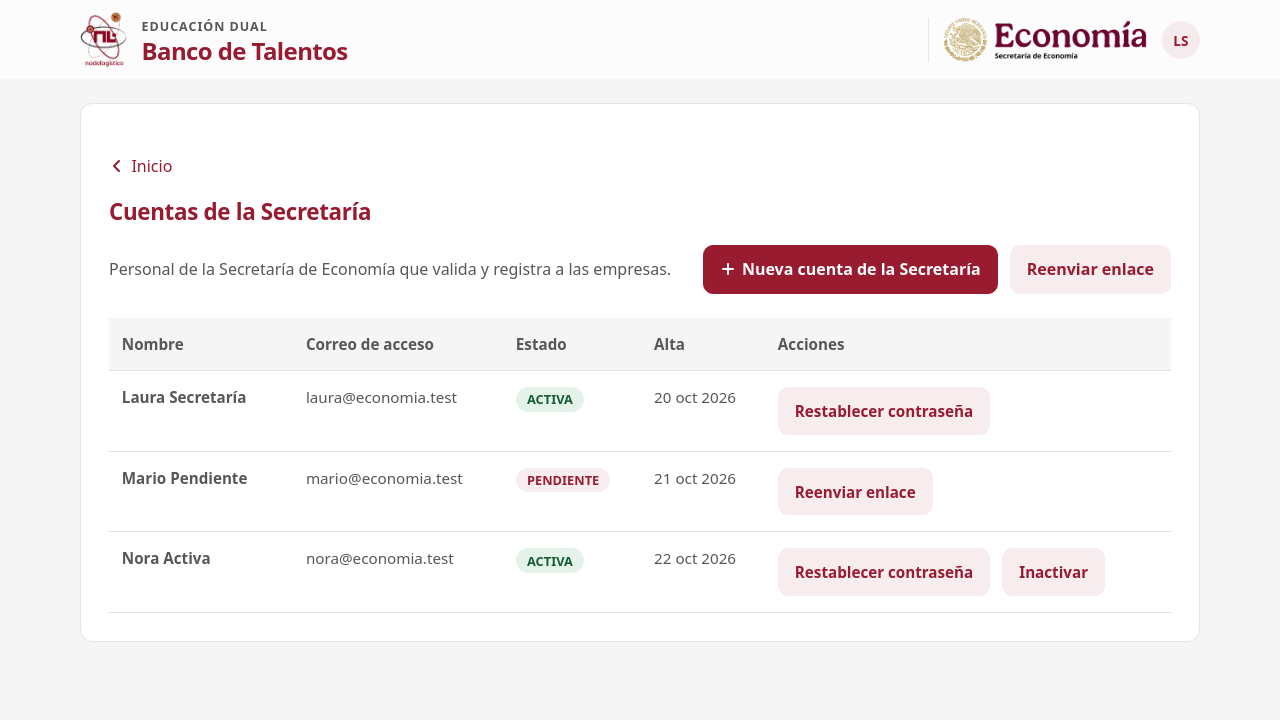
Test: cuentas de la Secretaría HU-S4-01 › estado y restablecimiento HU-S6-04 › inactiva tras confirmar y activa otra cuenta, pero nunca la propia (CA-01, CA-04)
Expected: the button with aria-label "Restablecer la contraseña de Laura Secretaría" is shown, [778, 387, 990, 435]
Click the button with aria-label "Inactivar la cuenta de Nora Activa" at (1054, 572), box [1002, 548, 1105, 596]
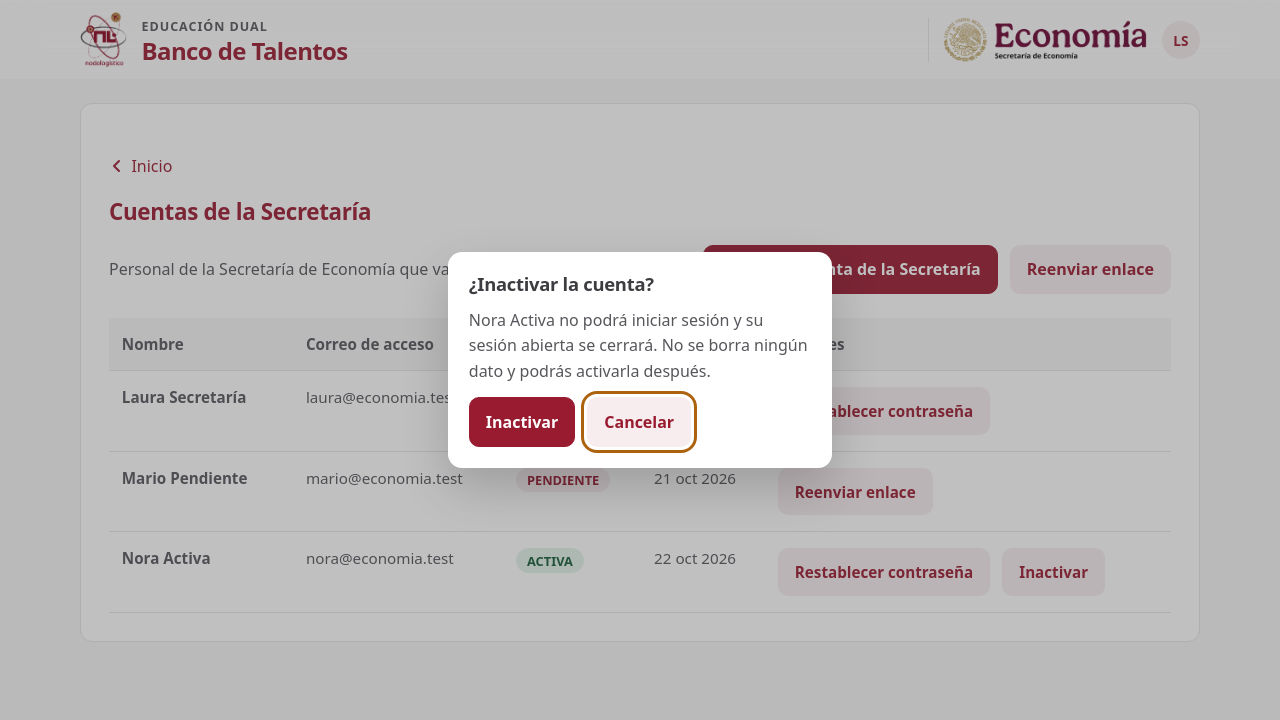
Click the button "Inactivar" at (522, 422), box [469, 397, 575, 447]
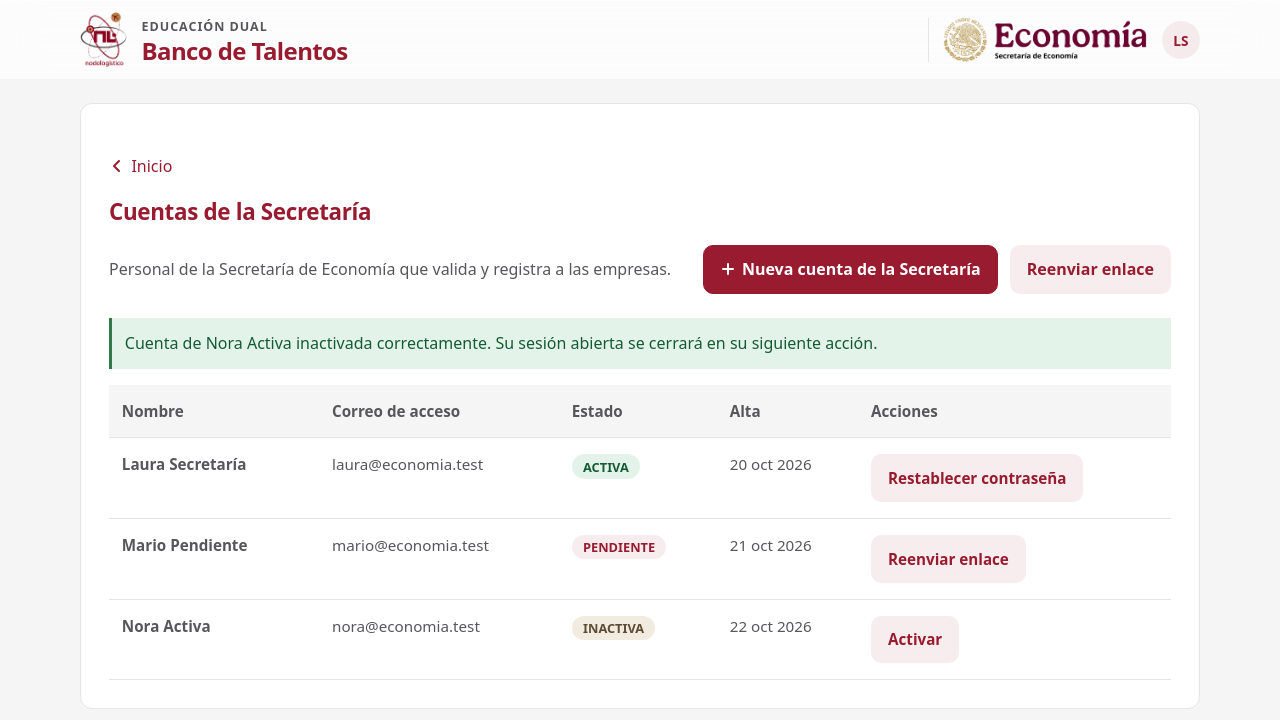
Expected: the row "Nora Activa nora@economia.test INACTIVA 22 oct 2026 Activar" is shown, [109, 599, 1171, 680]
Result: the text "Cuenta de Nora Activa inactivada correctamente" is shown at [125, 332, 878, 354]
Click the button with aria-label "Activar la cuenta de Nora Activa" at (915, 639), box [871, 616, 959, 663]
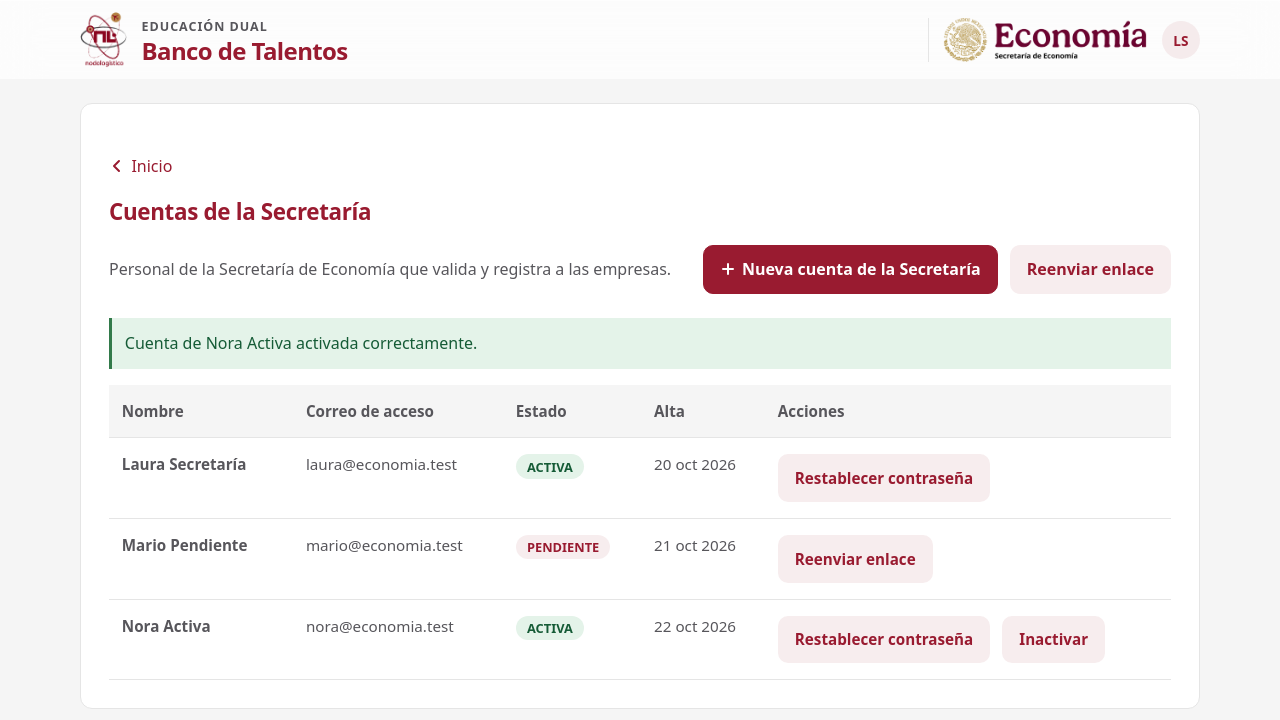
Result: the text "Cuenta de Nora Activa activada correctamente." is shown at [109, 318, 1171, 369]
